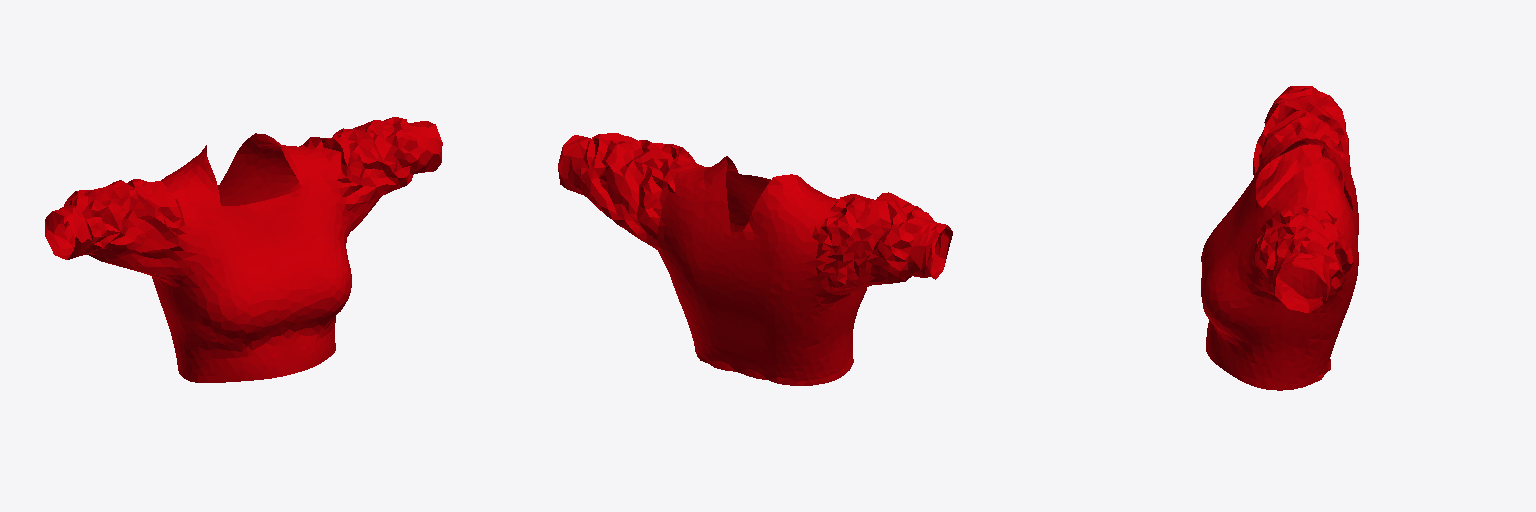
The model's file is sample_0.obj.
3 views of the same model, side by side, from view 1: azimuth 30°, elevation 25°; view 2: azimuth 150°, elevation 25°; view 3: azimuth 270°, elevation 25° (orthographic).
Size of the model in its own units: 708 by 372 by 257.